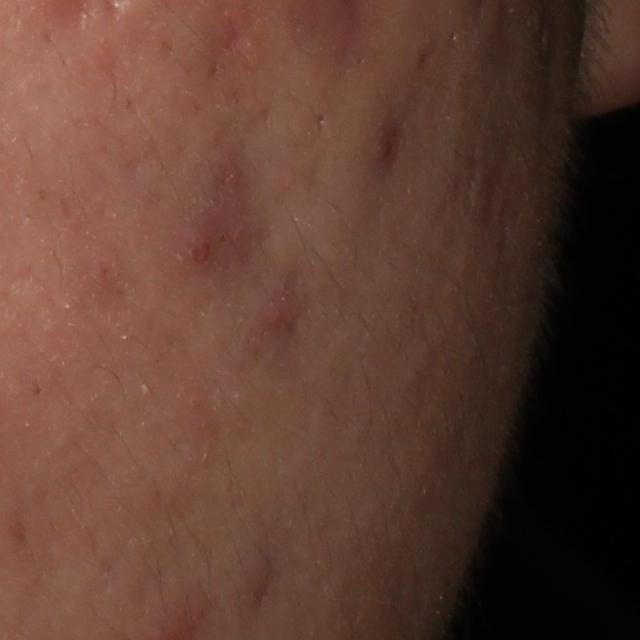atrophic_scar: (175, 132, 292, 281)
